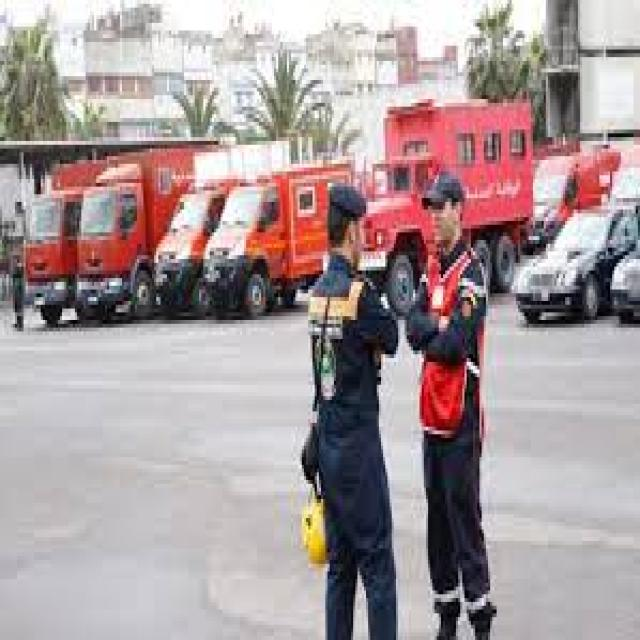pompier: (358, 100, 535, 292)
